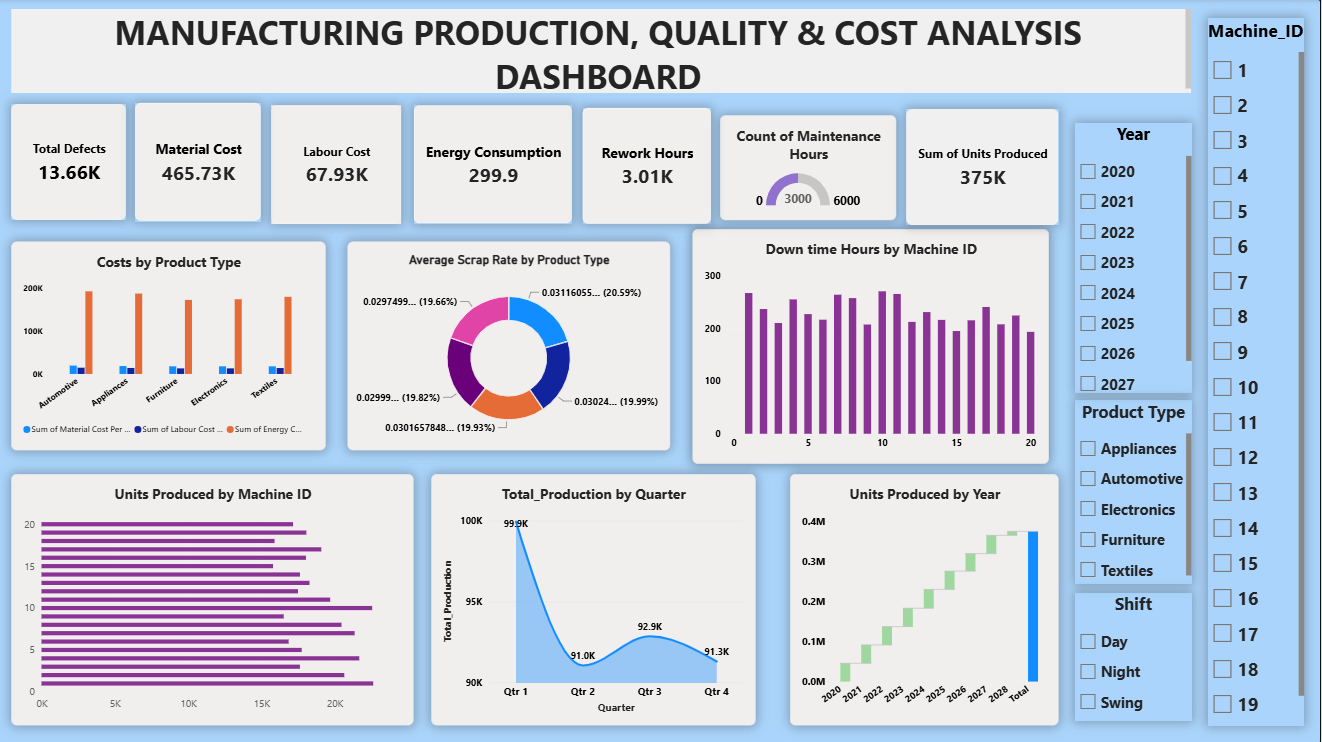

What the dashboard file says about the page in this screenshot:
{"tool":"powerbi","page":{"name":"Page 1","canvas":[1920,1080],"ordinal":0},"visuals":[{"type":"clusteredColumnChart","title":"Costs by Product Type","fields":{"Category":["Manufacturing Dataset.Product Type"],"Y":["Sum(Manufacturing Dataset.Material Cost Per Unit)","Sum(Manufacturing Dataset.Labour Cost Per Hour)","Sum(Manufacturing Dataset.Energy Consumption kWh)"]},"box":[22.6,308.7,454.9,302.6],"z":0},{"type":"columnChart","title":"Down time Hours by Machine ID","fields":{"Category":["Manufacturing Dataset.Machine ID"],"Y":["Sum(Manufacturing Dataset.Down time Hours)"]},"box":[1002.4,290.2,537.2,349.9],"z":1000},{"type":"lineChart","fields":{"Category":["Manufacturing Dataset.Date.Variation.Date Hierarchy.Quarter"],"Y":["Manufacturing Dataset.Total_Production"]},"box":[631.9,687.5,469.3,364.3],"z":2000},{"type":"slicer","title":"Shift","fields":{"Values":["Manufacturing Dataset.Shift"]},"box":[1564.3,860.4,168.8,185.2],"z":3000},{"type":"slicer","title":"Product Type","fields":{"Values":["Manufacturing Dataset.Product Type"]},"box":[1564.3,580.4,168.8,265.5],"z":4000},{"type":"cardVisual","fields":{"Data":["Sum(Manufacturing Dataset.Defects)"]},"box":[22.6,51.5,162.6,183.2],"z":5000},{"type":"cardVisual","fields":{"Data":["Sum(Manufacturing Dataset.Down time Hours)"]},"box":[650.4,55.6,185.2,183.2],"z":6000},{"type":"cardVisual","fields":{"Data":["Sum(Manufacturing Dataset.Maintenance Hours)"]},"box":[407.5,53.5,224.4,183.2],"z":7000},{"type":"cardVisual","fields":{"Data":["Sum(Manufacturing Dataset.Labour Cost Per Hour)"]},"box":[1086.8,55.6,214.1,183.2],"z":8000},{"type":"slicer","title":"Machine_ID","fields":{"Values":["Manufacturing Dataset.Machine ID"]},"box":[1755.8,26.8,140,1025],"z":9000},{"type":"clusteredBarChart","title":"Units Produced by Machine ID","fields":{"Category":["Manufacturing Dataset.Machine ID"],"Y":["Sum(Manufacturing Dataset.Units Produced)"]},"box":[22.6,687.5,582.5,364.3],"z":10000},{"type":"waterfallChart","title":"Units Produced by Year","fields":{"Category":["Manufacturing Dataset.Date.Variation.Date Hierarchy.Year"],"Y":["Sum(Manufacturing Dataset.Units Produced)"]},"box":[1150.6,687.5,389,364.3],"z":11000},{"type":"slicer","title":"Year","fields":{"Values":["Manufacturing Dataset.Date.Variation.Date Hierarchy.Year"]},"box":[1564.3,179.1,168.8,391.1],"z":12000},{"type":"cardVisual","fields":{"Data":["Sum(Manufacturing Dataset.Energy Consumption kWh)"]},"box":[856.3,53.5,203.8,183.2],"z":13000},{"type":"donutChart","title":"Average Scrap Rate by Product Type","fields":{"Category":["Manufacturing Dataset.Product Type"],"Y":["Avg(Manufacturing Dataset.Scrap Rate)"]},"box":[508.4,308.7,467.2,302.6],"z":14000},{"type":"gauge","fields":{"Y":["CountNonNull(Manufacturing Dataset.Maintenance Hours)"]},"box":[1360.6,12.3,372.6,140],"z":15000},{"type":"cardVisual","fields":{"Data":["Manufacturing Dataset.Total_Material_Cost"]},"box":[203.8,53.5,181.1,183.2],"z":16000},{"type":"cardVisual","fields":{"Data":["Sum(Manufacturing Dataset.Rework Hours)"]},"box":[1317.3,179.1,230.5,102.9],"z":17000}]}

Visuals, with their boxes in screenshot pixels (x1, y1, x2, y2), scaled from the page's 1920x1080 canvas onto the 1322x742 screenshot:
"Costs by Product Type" clusteredColumnChart: [16, 212, 329, 420]
"Down time Hours by Machine ID" columnChart: [690, 199, 1060, 440]
lineChart - Manufacturing Dataset.Date.Variation.Date Hierarchy.Quarter x Manufacturing Dataset.Total_Production: [435, 472, 758, 723]
"Shift" slicer: [1077, 591, 1193, 718]
"Product Type" slicer: [1077, 399, 1193, 581]
cardVisual - Sum(Manufacturing Dataset.Defects): [16, 35, 128, 161]
cardVisual - Sum(Manufacturing Dataset.Down time Hours): [448, 38, 575, 164]
cardVisual - Sum(Manufacturing Dataset.Maintenance Hours): [281, 37, 435, 163]
cardVisual - Sum(Manufacturing Dataset.Labour Cost Per Hour): [748, 38, 896, 164]
"Machine_ID" slicer: [1209, 18, 1305, 723]
"Units Produced by Machine ID" clusteredBarChart: [16, 472, 417, 723]
"Units Produced by Year" waterfallChart: [792, 472, 1060, 723]
"Year" slicer: [1077, 123, 1193, 392]
cardVisual - Sum(Manufacturing Dataset.Energy Consumption kWh): [590, 37, 730, 163]
"Average Scrap Rate by Product Type" donutChart: [350, 212, 672, 420]
gauge - CountNonNull(Manufacturing Dataset.Maintenance Hours): [937, 8, 1193, 105]
cardVisual - Manufacturing Dataset.Total_Material_Cost: [140, 37, 265, 163]
cardVisual - Sum(Manufacturing Dataset.Rework Hours): [907, 123, 1066, 194]
